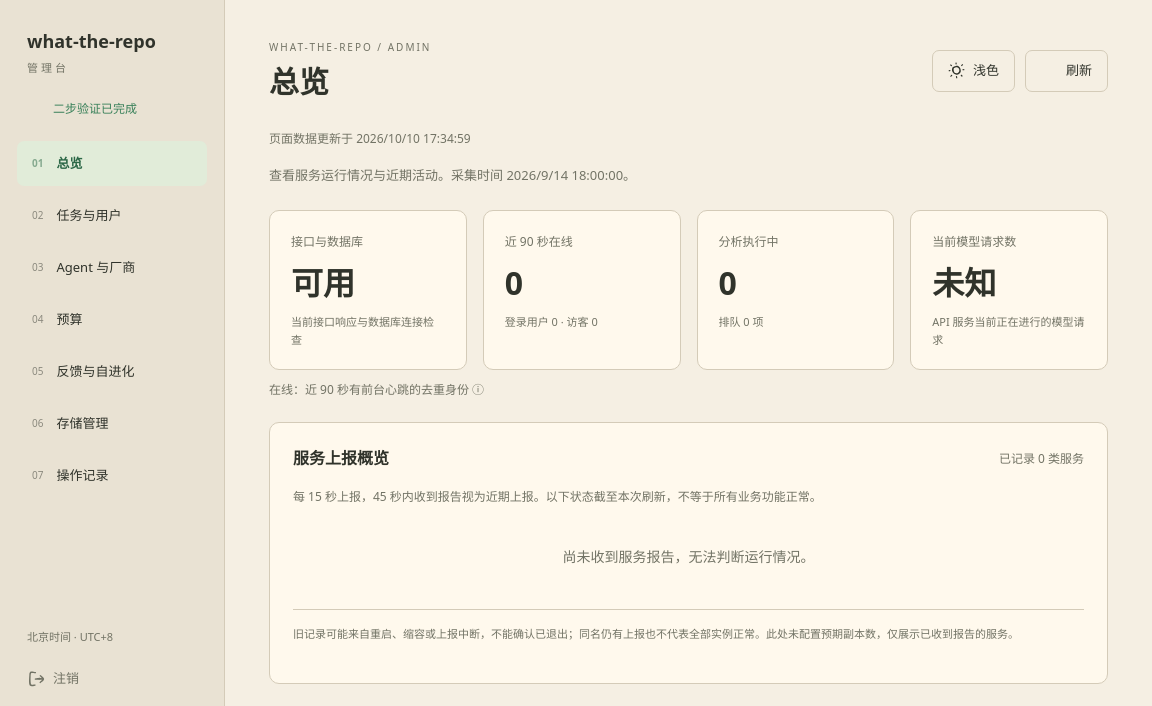
shows the daily platform cache hit rate and an empty value only on daily budget cards
This screenshot has width=1152, height=706.
Step 1. Click the button "04 预算" → (112, 320), box [17,297,207,342]
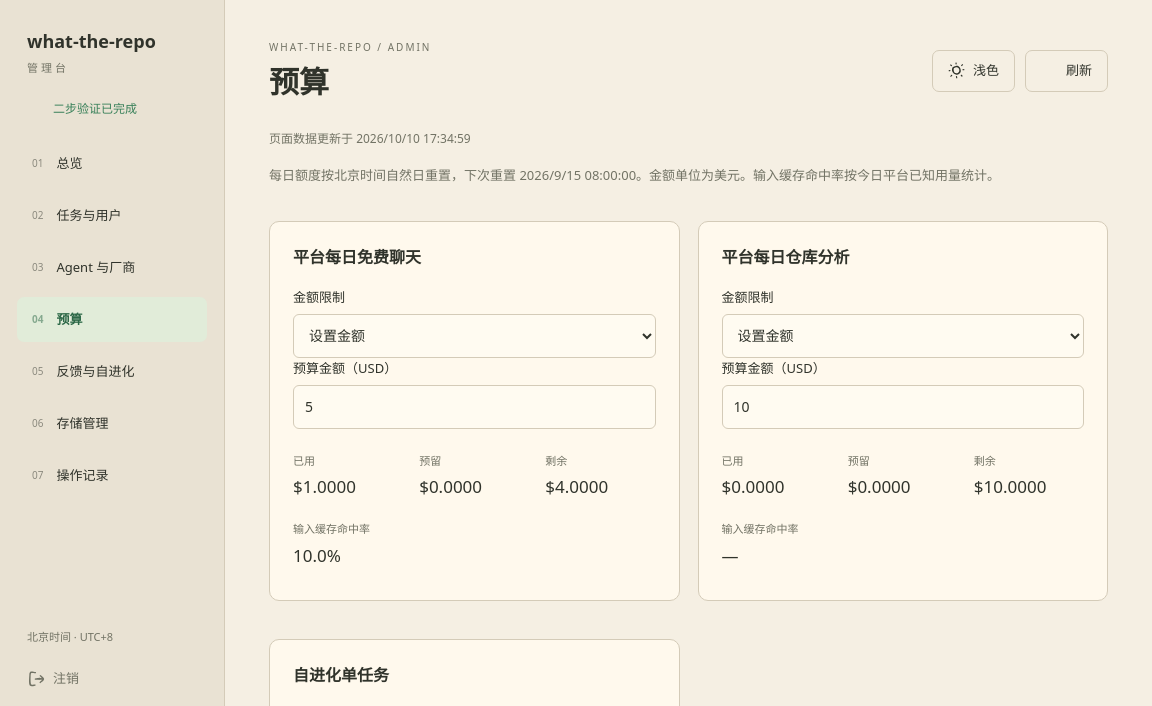
Expected: the text "10.0%" is shown, [293,544,341,567]
Expected: the text "—" is shown, [722,544,738,567]
Expected: the text "输入缓存命中率按今日平台已知用量统计" is shown, [636,166,1000,184]
